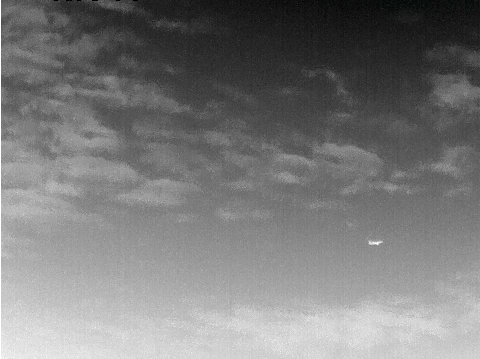dim target: (366, 239, 384, 246)
